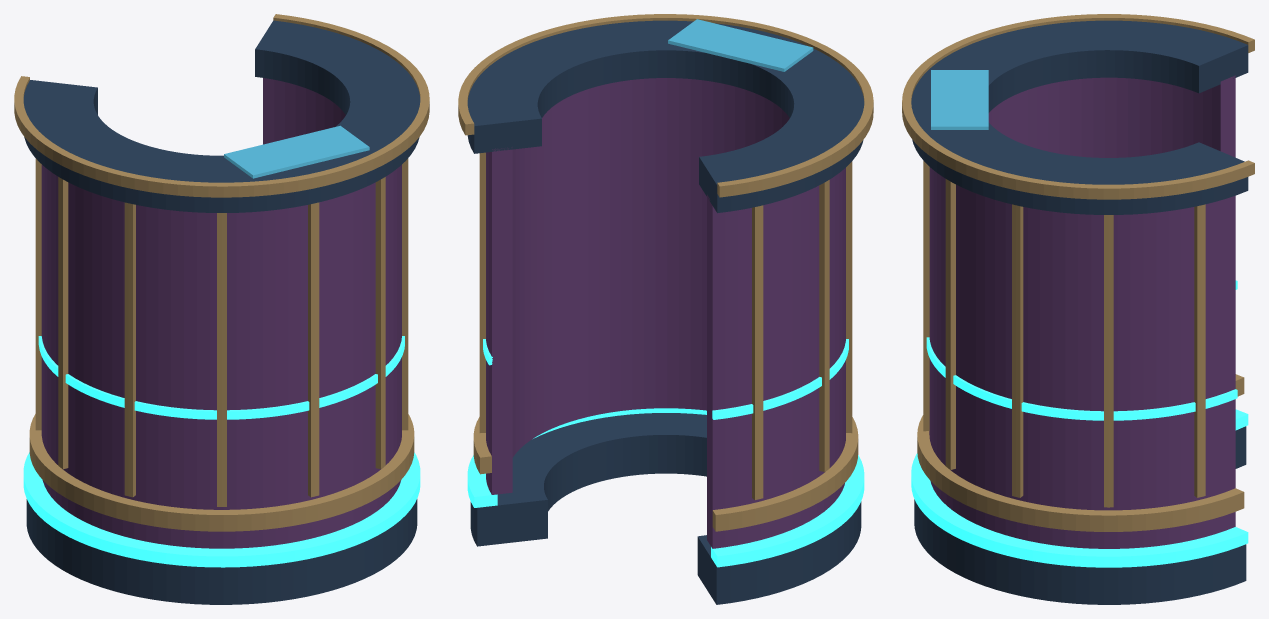
The model's file is debate_podium.glb.
The picture shows the model from 3 angles, left to right: view 1: azimuth 30°, elevation 25°; view 2: azimuth 150°, elevation 25°; view 3: azimuth 270°, elevation 25°; orthographic projection.
Visible parts, largest first — view 1: curved shell, foot, lower band, base light, small control inset; view 2: curved shell, foot, lower band, base light, small control inset; view 3: curved shell, foot, lower band, base light, small control inset.
Part boxes in pixels (box(x1,y1,x2,y2)): curved shell: box(41, 78, 401, 548); foot: box(23, 20, 420, 604); lower band: box(14, 14, 429, 531); base light: box(23, 336, 420, 567); small control inset: box(224, 125, 369, 178); curved shell: box(486, 78, 845, 548); foot: box(467, 20, 864, 604); lower band: box(458, 14, 873, 531); base light: box(467, 339, 864, 567); small control inset: box(668, 19, 813, 71); curved shell: box(929, 75, 1235, 548); foot: box(911, 20, 1248, 604); lower band: box(902, 14, 1254, 531); base light: box(911, 280, 1248, 567); small control inset: box(931, 70, 988, 129).
Bounding box in the file's own units: 1.36 × 1.54 × 1.16.
